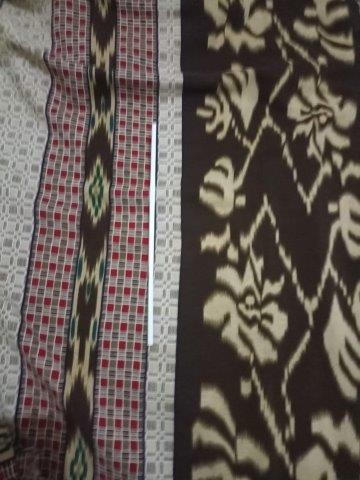sedotan: (147, 123, 155, 346)
